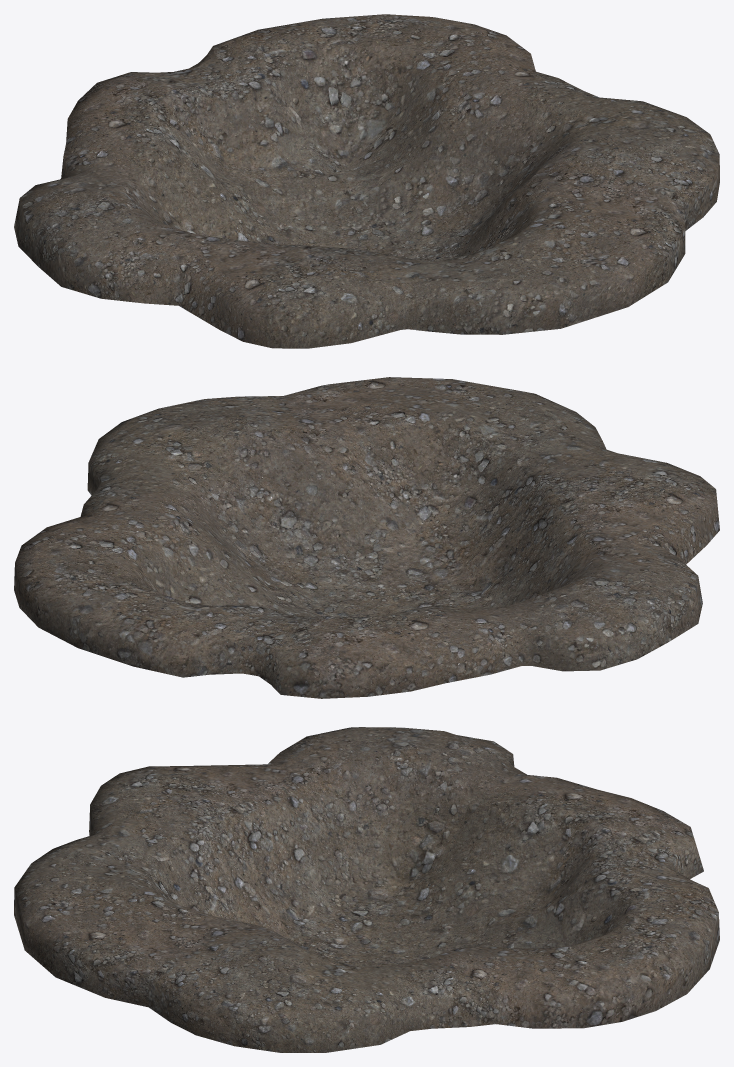
The model's file is cave_modules_floor_pool_1.dae.
3 views of the same model, one above another, from view 1: azimuth 30°, elevation 25°; view 2: azimuth 150°, elevation 25°; view 3: azimuth 270°, elevation 25° (orthographic).
Visible parts, largest first — view 1: floor_pool_1; view 2: floor_pool_1; view 3: floor_pool_1.
Part boxes in pixels (left/top/right/bottom): floor_pool_1: left=14, top=14, right=719, bottom=348; floor_pool_1: left=14, top=377, right=719, bottom=698; floor_pool_1: left=14, top=727, right=719, bottom=1052.
Bounding box in the file's own units: 6.31 × 1.06 × 6.3.
